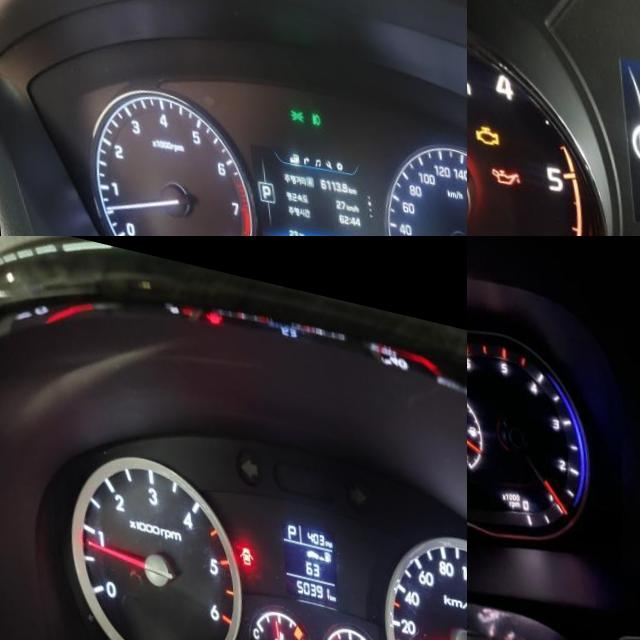Doors: (234, 532, 248, 551)
FrontFogLight: (306, 94, 316, 110)
SideLamp: (285, 92, 299, 107)
